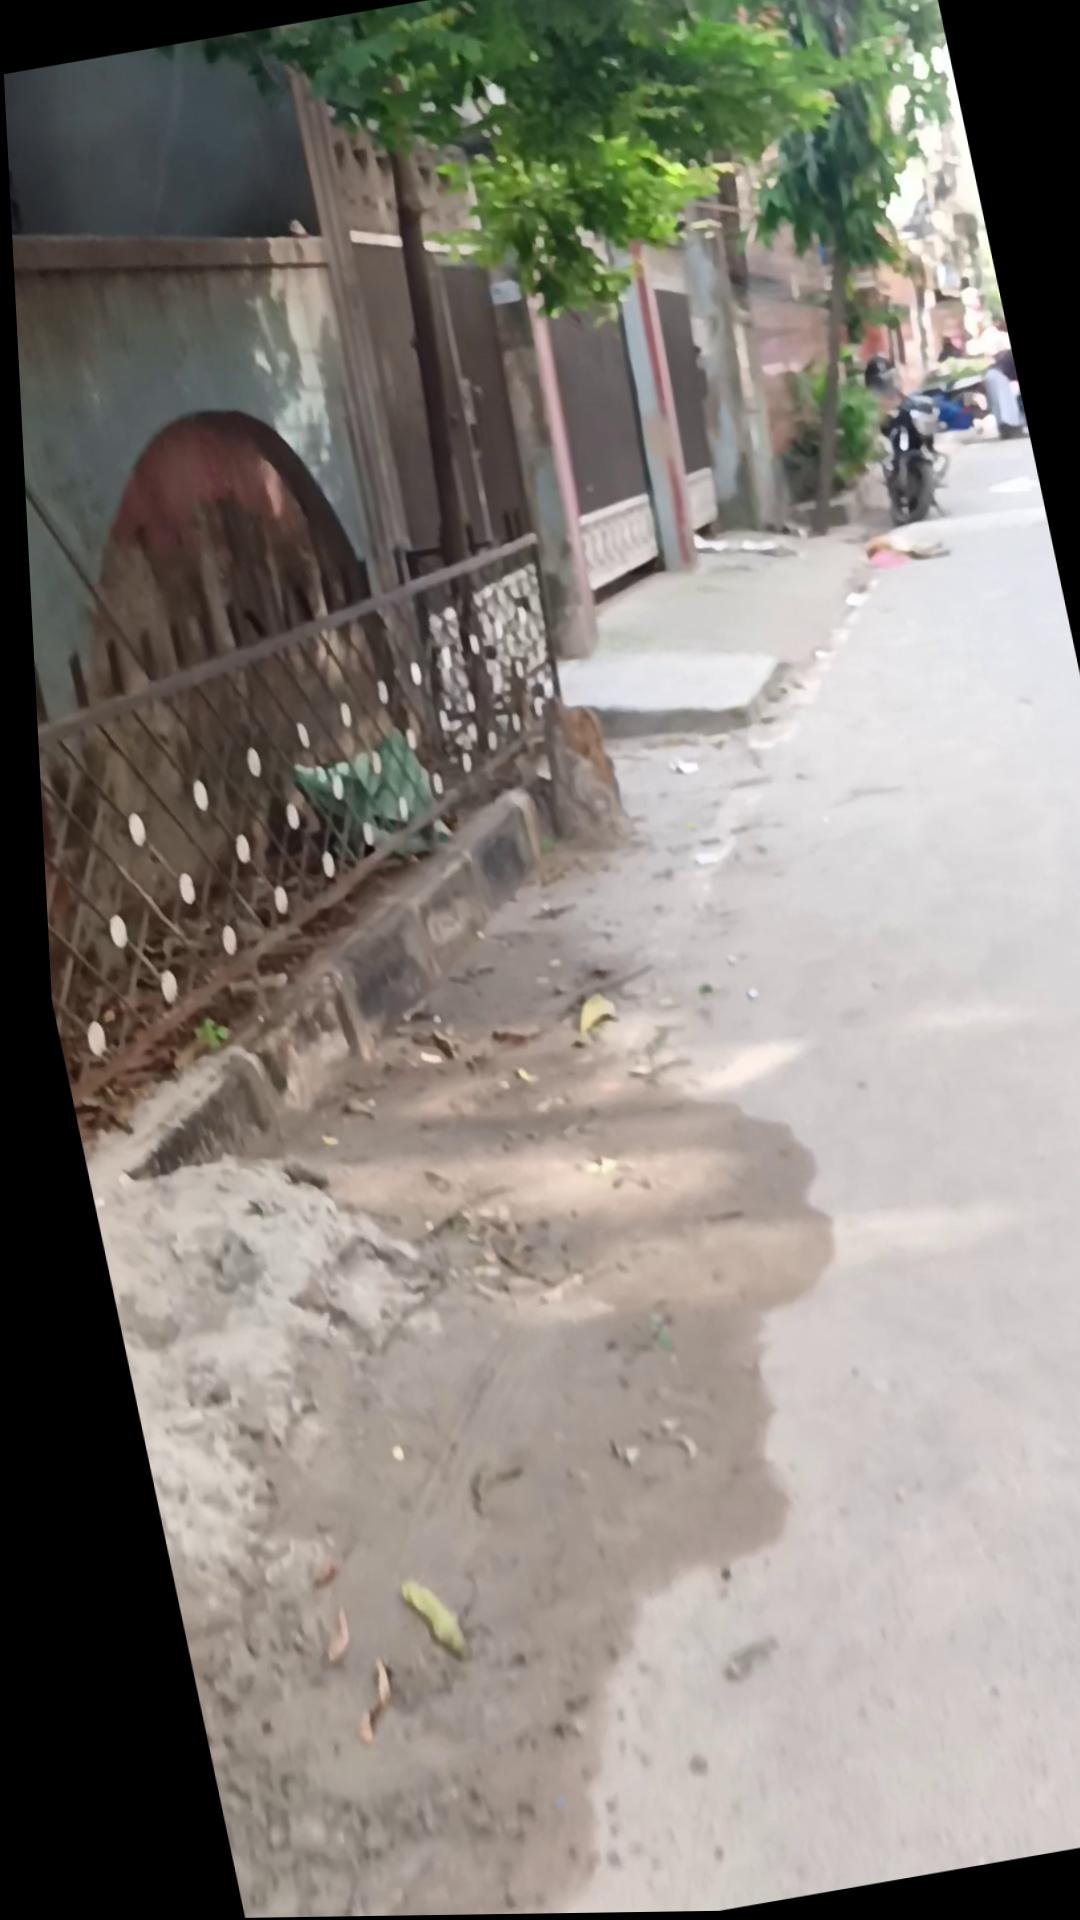Broken-road: (32, 771, 598, 1191), (539, 618, 791, 759), (78, 1035, 282, 1190)
Car: (21, 505, 633, 1114)
Garbage: (21, 503, 1080, 1920)
Light-pole: (320, 0, 1034, 588)
